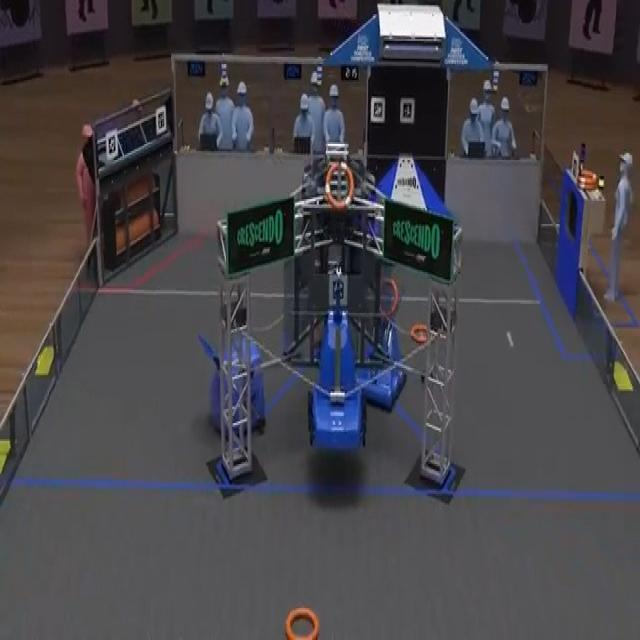notes: (283, 606, 320, 640), (409, 322, 428, 346)
